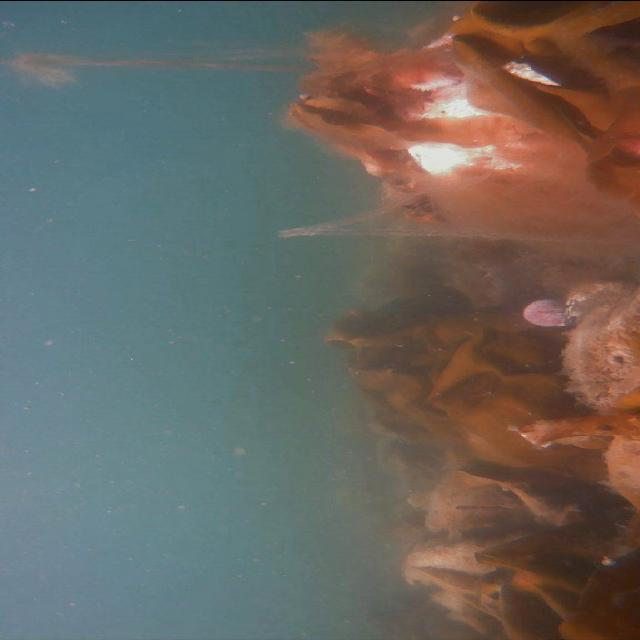Deniz Kestanesi: (396, 48, 459, 92), (523, 298, 570, 326)
